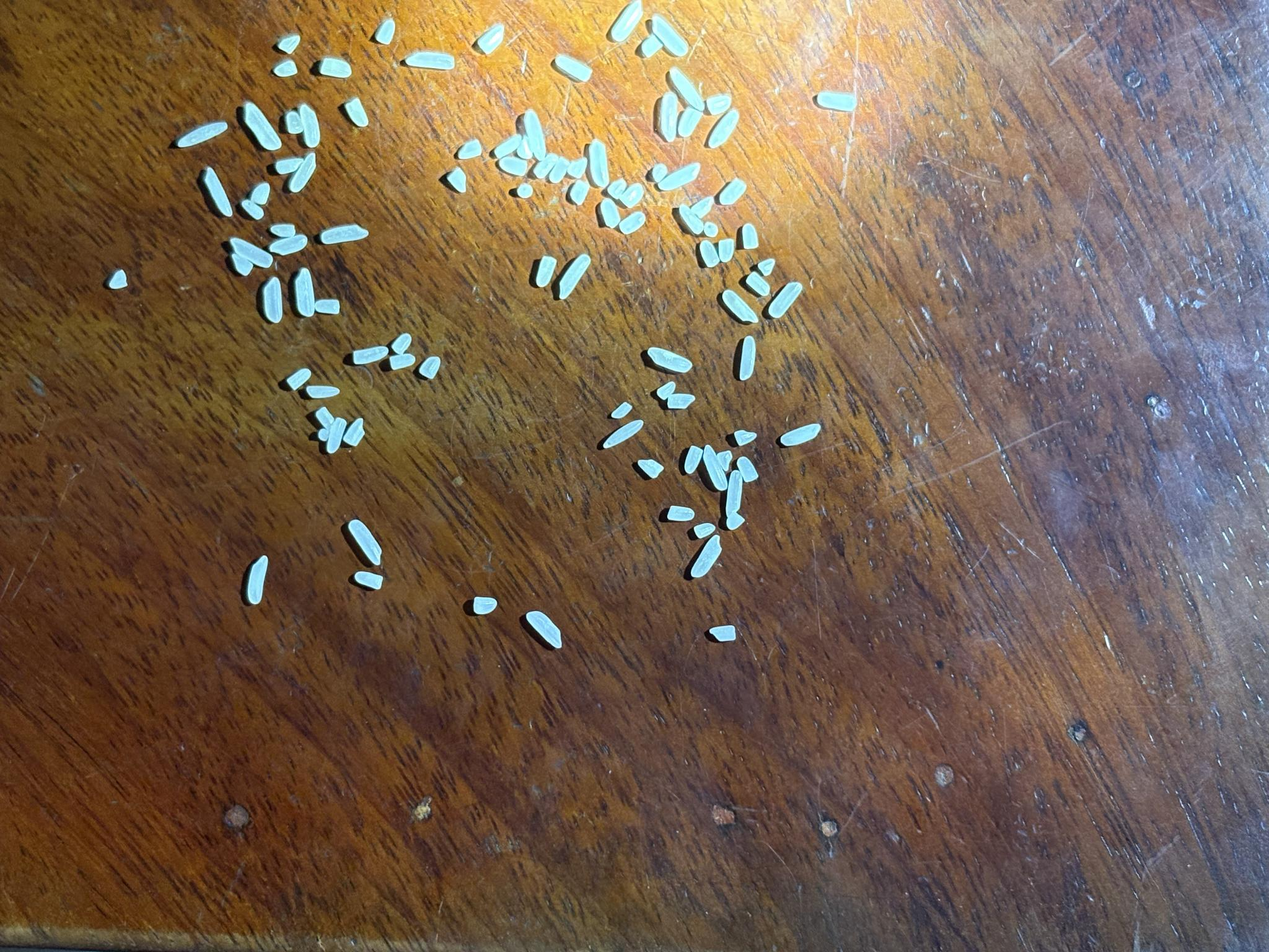Rice-th-y-nh: (240, 99, 283, 154), (176, 114, 228, 155), (666, 64, 707, 115), (649, 11, 690, 60), (345, 517, 384, 568), (607, 0, 650, 46), (518, 109, 553, 162), (555, 251, 592, 301), (657, 157, 702, 198), (581, 139, 616, 191), (689, 533, 726, 582), (653, 90, 687, 143), (647, 340, 693, 379), (405, 42, 456, 77), (696, 443, 732, 492), (766, 277, 804, 323), (288, 267, 322, 318), (201, 165, 233, 219), (602, 414, 644, 455), (525, 607, 564, 651), (240, 554, 273, 606), (320, 217, 369, 252), (721, 286, 760, 328), (706, 107, 742, 151), (257, 276, 289, 324), (779, 417, 821, 453), (294, 103, 326, 150), (230, 236, 274, 270), (719, 469, 749, 518), (816, 84, 858, 119), (287, 152, 320, 196), (733, 335, 763, 381), (268, 228, 309, 261), (552, 52, 593, 83), (476, 21, 508, 57), (352, 341, 389, 370), (675, 105, 705, 140), (323, 416, 349, 455), (596, 196, 624, 231), (532, 254, 560, 289), (677, 203, 705, 237), (496, 152, 530, 180), (718, 177, 748, 208), (618, 180, 647, 211), (618, 209, 647, 239), (492, 133, 523, 161), (343, 96, 370, 128), (318, 55, 352, 80), (704, 90, 733, 119), (532, 151, 559, 182), (681, 443, 706, 476), (666, 388, 696, 415), (735, 454, 761, 485), (637, 454, 665, 482), (697, 239, 722, 270), (456, 136, 483, 164), (709, 620, 738, 646), (547, 155, 571, 186), (353, 568, 384, 592), (273, 154, 305, 177), (745, 271, 772, 298), (690, 193, 716, 221), (666, 501, 695, 526), (568, 177, 592, 207), (342, 417, 366, 447), (640, 32, 665, 60), (305, 382, 340, 402), (472, 593, 498, 619), (739, 222, 762, 251), (374, 17, 397, 46), (565, 155, 589, 182), (249, 180, 273, 207), (715, 236, 738, 264), (446, 166, 469, 194), (286, 367, 312, 391), (314, 294, 340, 318), (388, 350, 415, 373), (230, 252, 254, 277), (732, 426, 757, 450), (691, 518, 716, 542), (283, 109, 305, 136), (515, 134, 536, 162), (240, 198, 265, 221), (273, 58, 298, 81), (606, 176, 629, 200), (418, 355, 441, 379), (715, 447, 736, 473), (314, 406, 336, 430), (390, 332, 412, 356), (277, 34, 302, 55), (270, 221, 297, 240), (656, 380, 677, 402), (757, 255, 778, 277), (610, 401, 633, 421), (725, 509, 745, 532), (650, 161, 670, 184), (109, 269, 128, 289), (516, 180, 534, 201), (702, 220, 720, 240), (317, 426, 332, 442)
